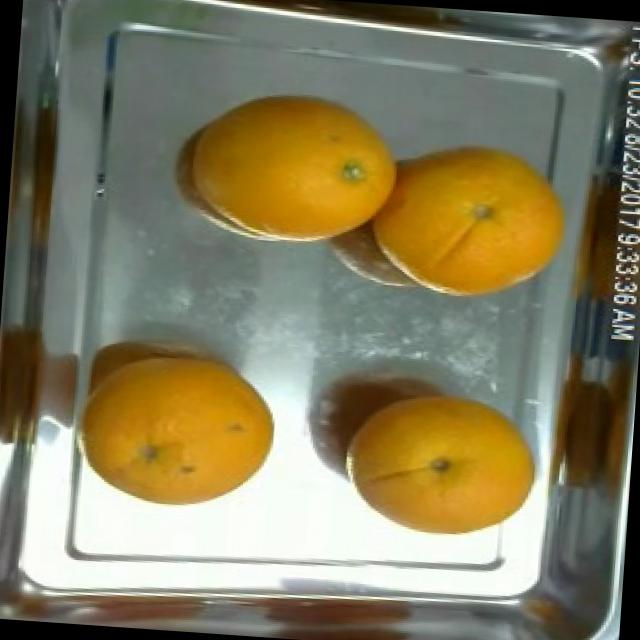Fruit: (353, 115, 592, 326), (324, 362, 560, 556), (0, 313, 64, 459)
